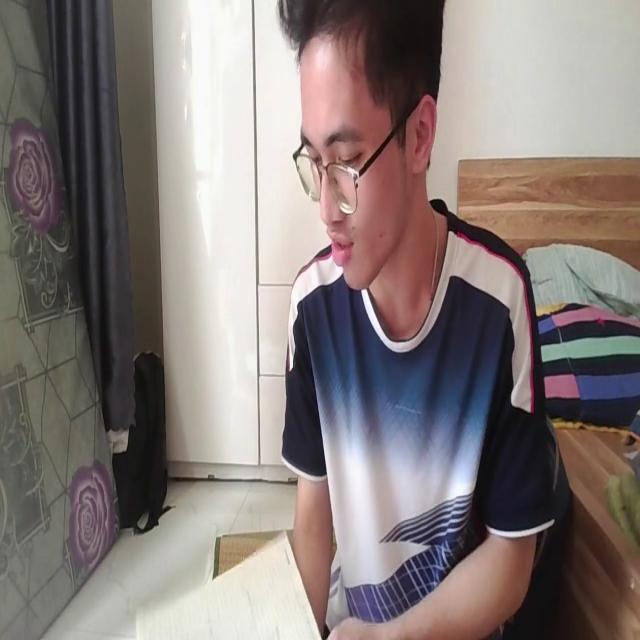book: (135, 528, 326, 640)
student: (269, 2, 552, 627)
